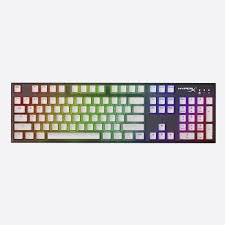keyboard: (10, 80, 217, 144)
